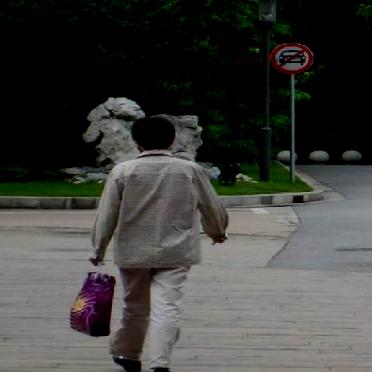ped: (92, 118, 231, 372)
